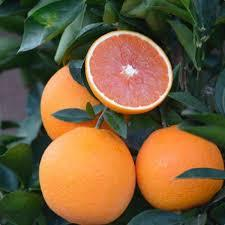orange: (38, 119, 137, 214), (74, 30, 176, 113), (136, 120, 225, 207), (28, 55, 100, 119)
